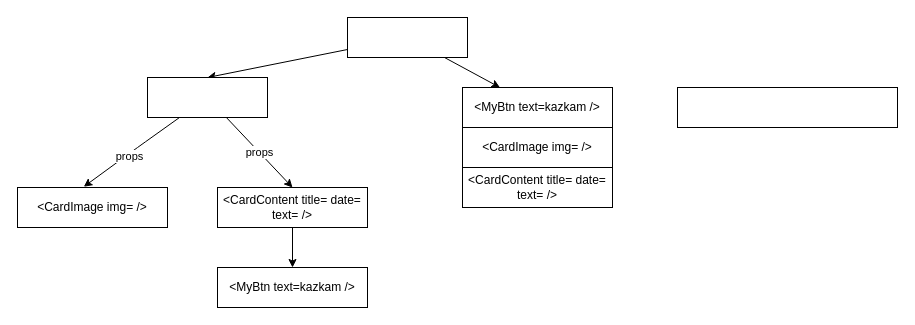
Some shapes in this 915 by 325 pixel diagram are drawn without their labels. The shapes that lost their labels are listed below. From the top down, each one's box as (x1, y1, x2, y2) in pixels, then its label:
(346, 16, 468, 58): <App />
(146, 76, 268, 118): <Card />
(676, 86, 898, 128): <button>{props.text}</button>
